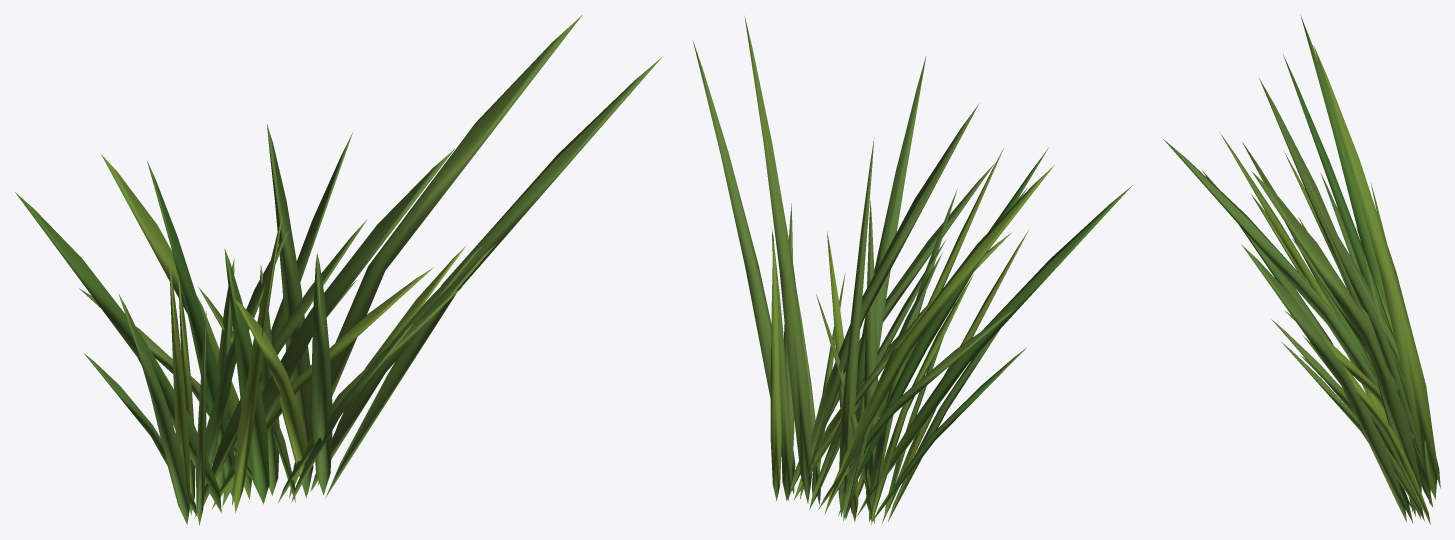
File: walltuft_medium.glb
3 views of the same model, side by side, from view 1: azimuth 30°, elevation 25°; view 2: azimuth 150°, elevation 25°; view 3: azimuth 270°, elevation 25° (orthographic). The views are drawn at different scales.
Parts seen in each view (by area): view 1: Sammel Pflanze; view 2: Sammel Pflanze; view 3: Sammel Pflanze.
Boxes of the visible parts, bbox=[...] form: Sammel Pflanze: bbox=[15, 15, 662, 525]; Sammel Pflanze: bbox=[693, 16, 1132, 524]; Sammel Pflanze: bbox=[1163, 15, 1440, 524].
Bounding box in the file's own units: 0.4858 × 0.3919 × 0.2378.
